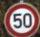Speed Limit -50-: (0, 0, 39, 36)
